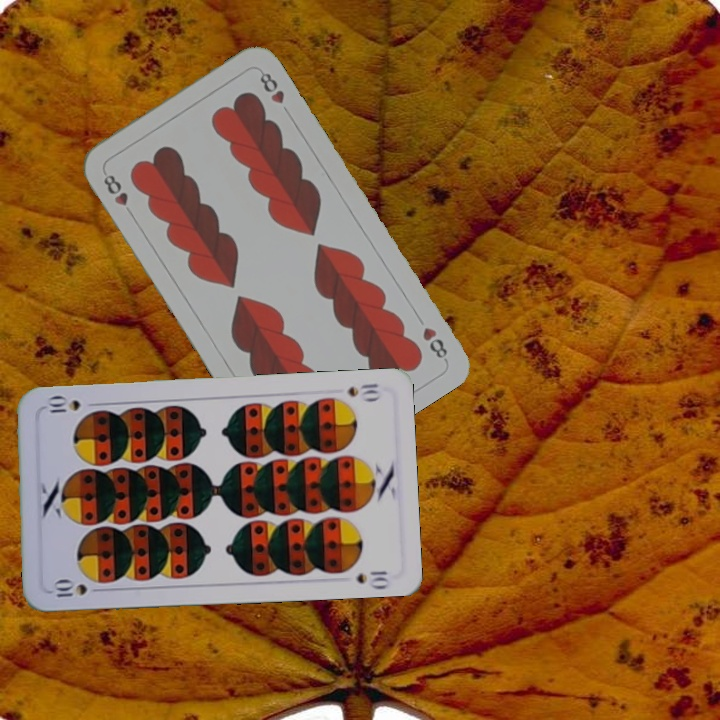H8: (99, 170, 137, 220), (418, 323, 450, 363)
S10: (49, 577, 106, 601), (344, 380, 383, 403)
